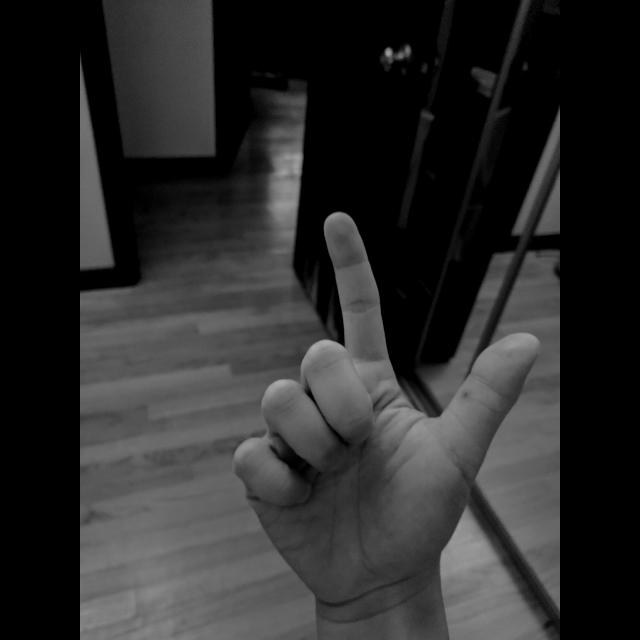L: (223, 205, 549, 595)
